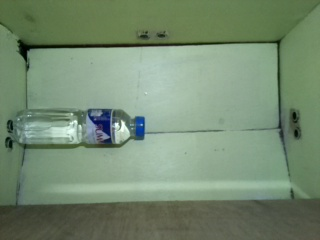bottle: (11, 106, 147, 147)
